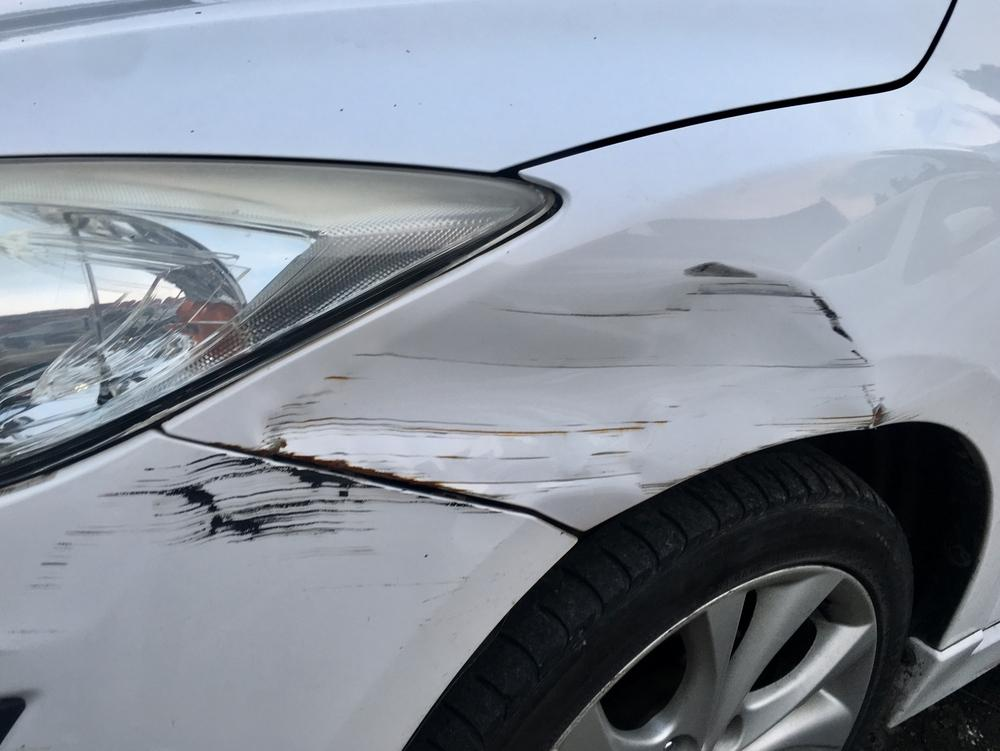dent: (257, 260, 876, 506)
scratch: (4, 447, 375, 647)
